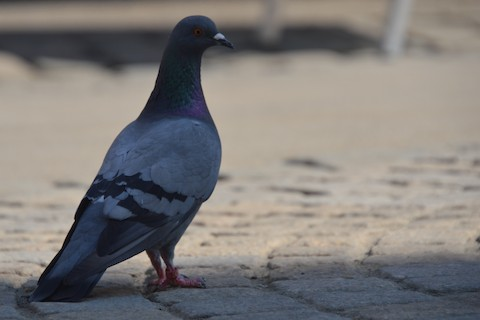pigeon: (23, 12, 236, 306)
